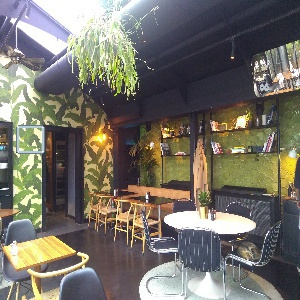square: (16, 124, 46, 154)
